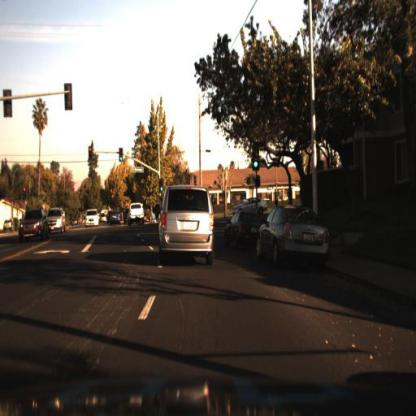car: (156, 181, 220, 271), (254, 206, 332, 261), (221, 211, 270, 253), (230, 193, 274, 218), (19, 210, 50, 240), (45, 203, 67, 236), (235, 194, 270, 214), (128, 200, 150, 228), (126, 201, 147, 230), (106, 204, 126, 233), (47, 207, 65, 232), (81, 205, 100, 228), (107, 209, 125, 230), (123, 204, 133, 231), (2, 214, 14, 235), (101, 209, 111, 227), (70, 214, 81, 229), (105, 210, 111, 231)
trafficLight: (250, 139, 261, 175), (247, 156, 261, 181), (22, 182, 31, 200)
trafficLight-Green: (117, 146, 125, 167), (157, 177, 165, 197), (159, 183, 165, 196)
trafficLight-RedLeft: (85, 143, 93, 166), (22, 185, 30, 205)
